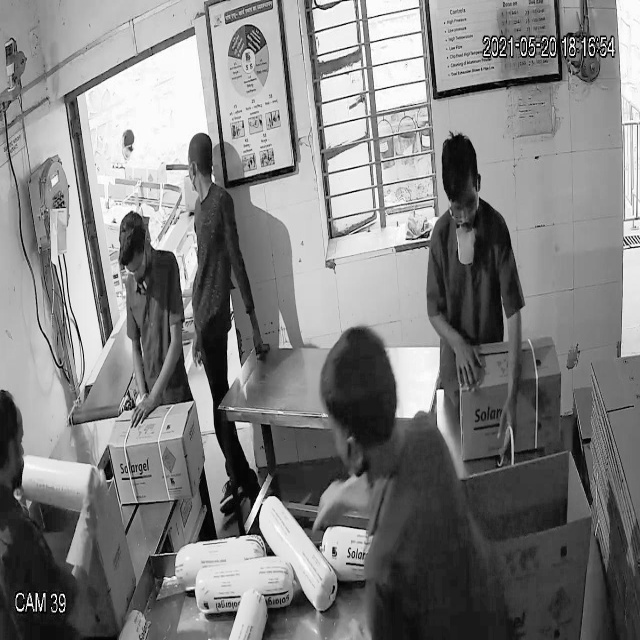Gafas: (447, 189, 482, 228)
